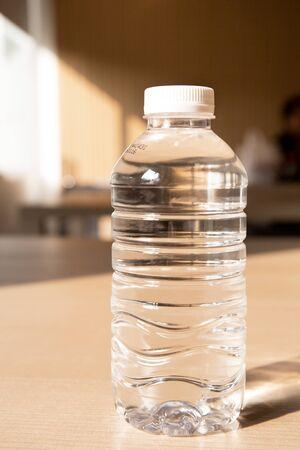plastic_bottle: (110, 84, 252, 436)
